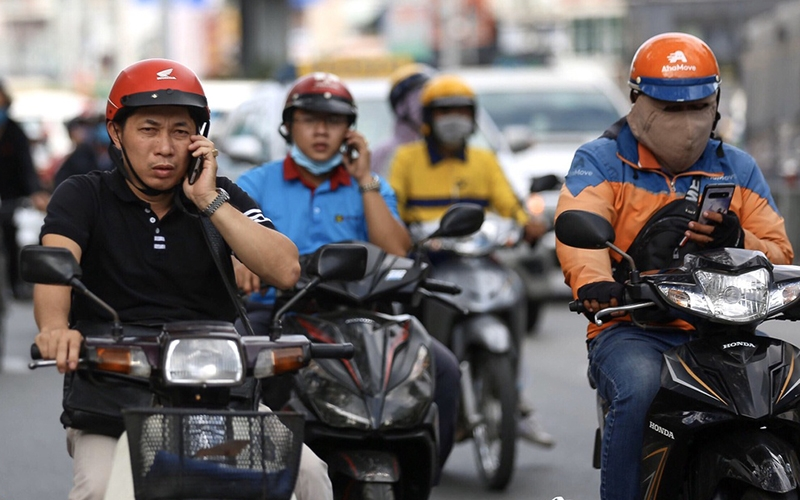dieu khien xe may: (71, 59, 284, 477), (613, 32, 800, 497)
su dung dien thoai: (630, 33, 741, 241), (107, 61, 229, 223), (283, 72, 380, 199)
